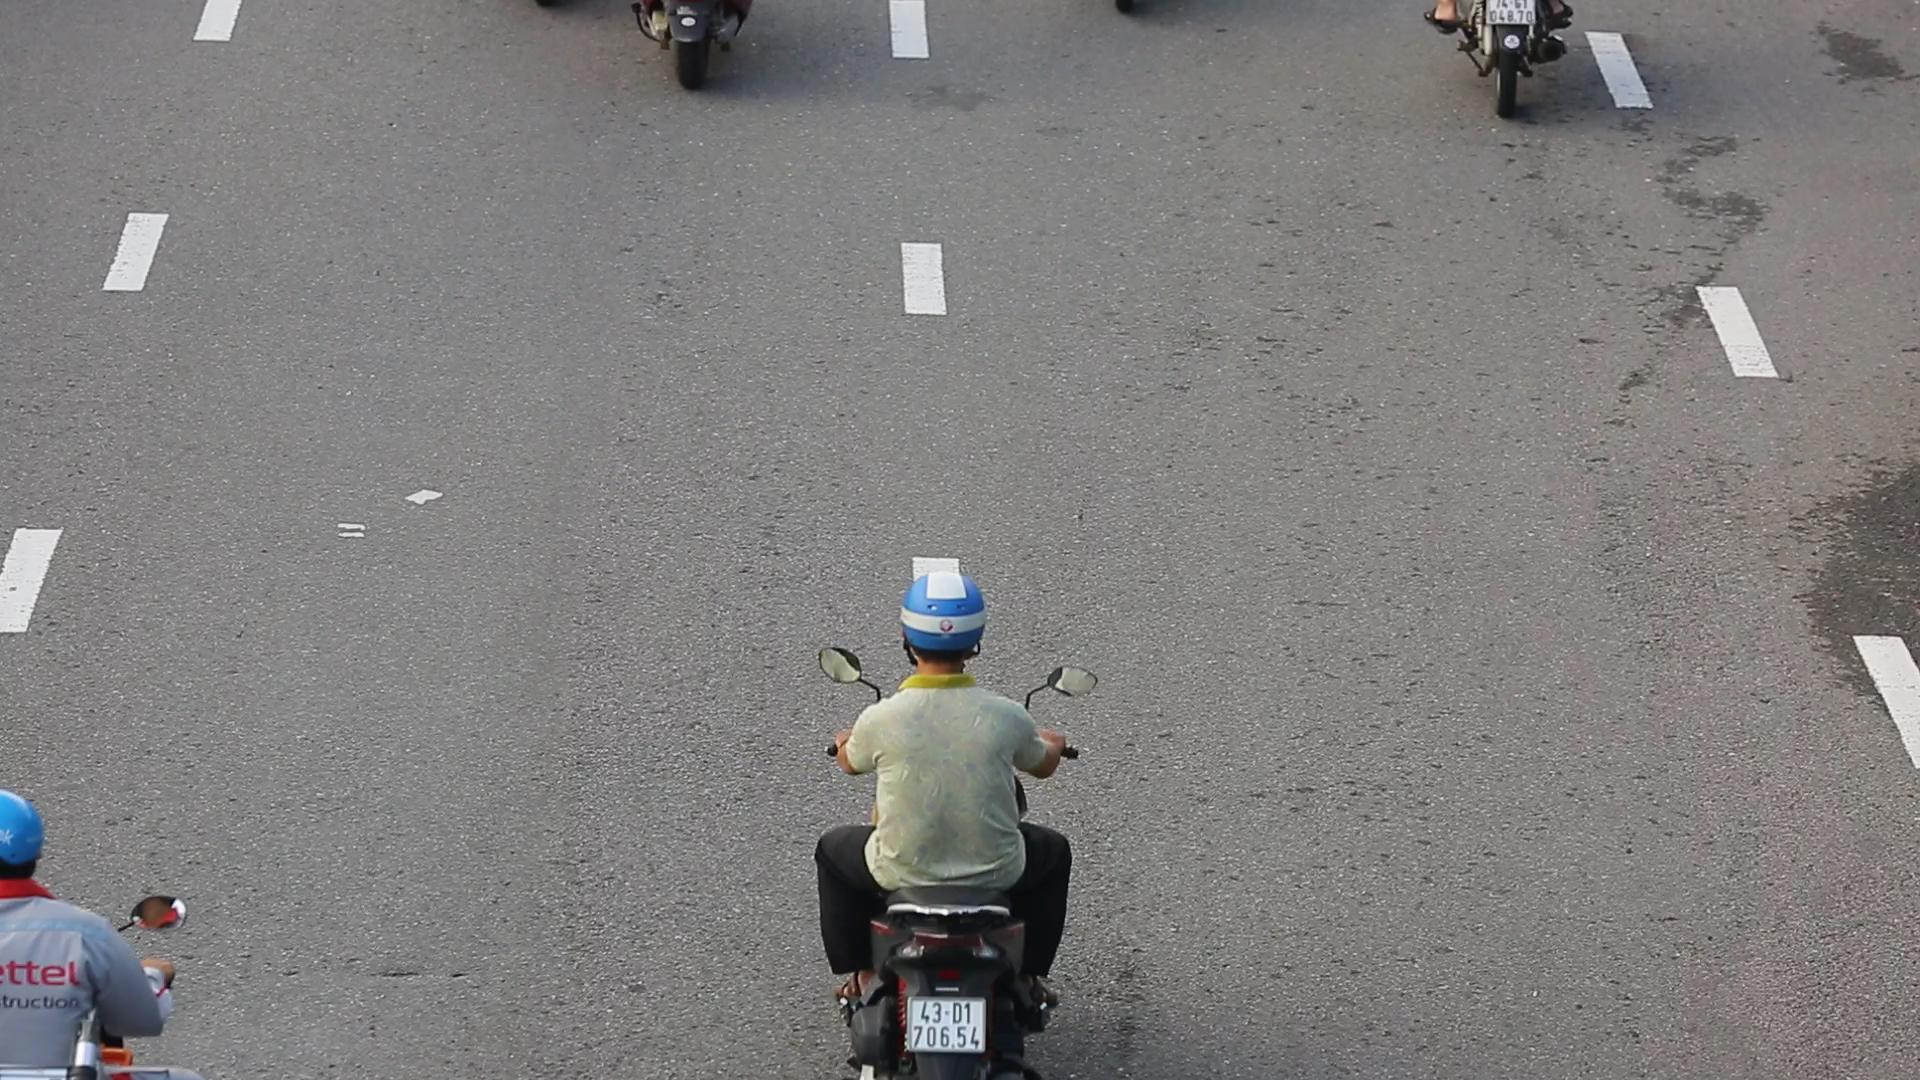motobike: (807, 564, 1095, 1080)
